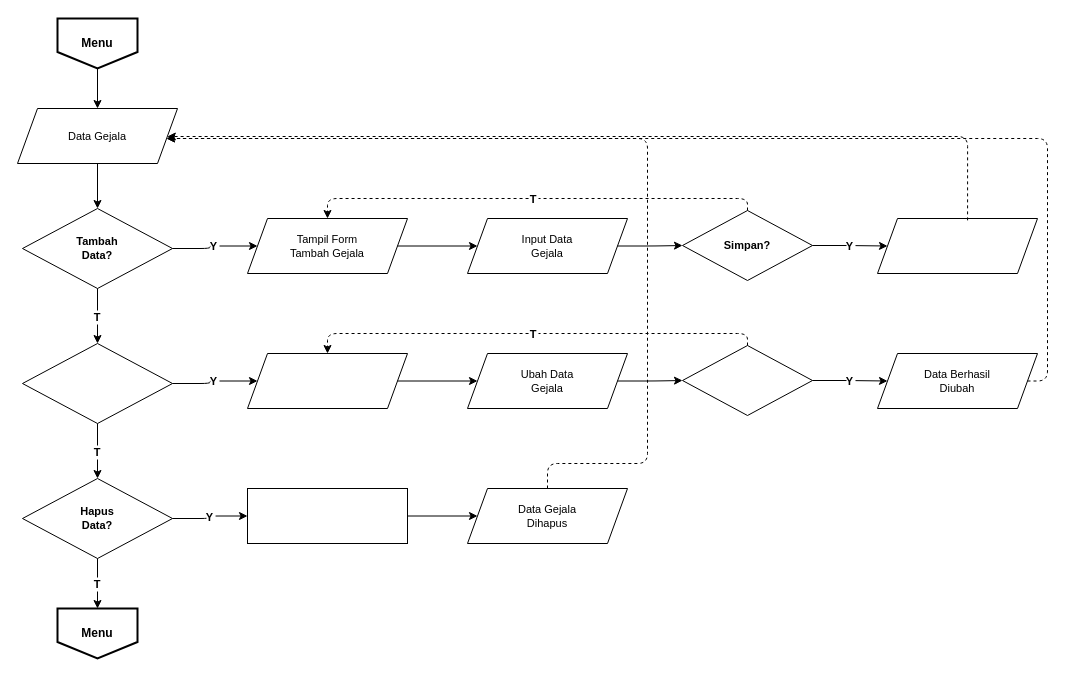
Image size: 1073x676. Some labels were removed from this diagram. The shapes that lost their labels are listed below. From the top down, each one's centre as x and y in pixels, then its label:
At (957,246): "Data Berhasil Disimpan".
At (97,383): "Ubah Data?".
At (327,380): "Tampil Form Ubah Gejala".
At (747,380): "Ubah?".
At (327,516): "Tampil Pesan Konfirmasi Hapus".
